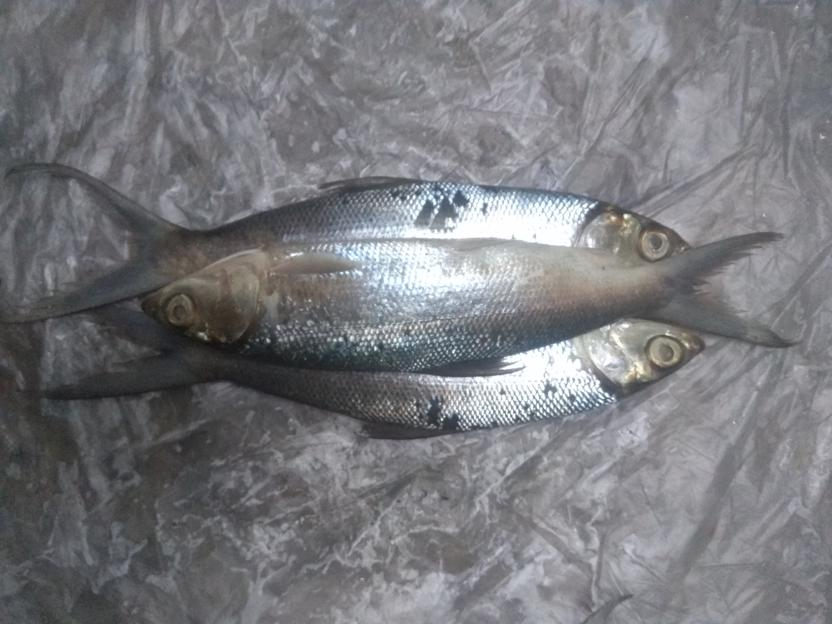Fish head: (141, 248, 272, 352), (578, 312, 708, 398), (577, 204, 692, 268)
Fish tail: (1, 161, 187, 324), (654, 230, 808, 350), (15, 305, 211, 399)
